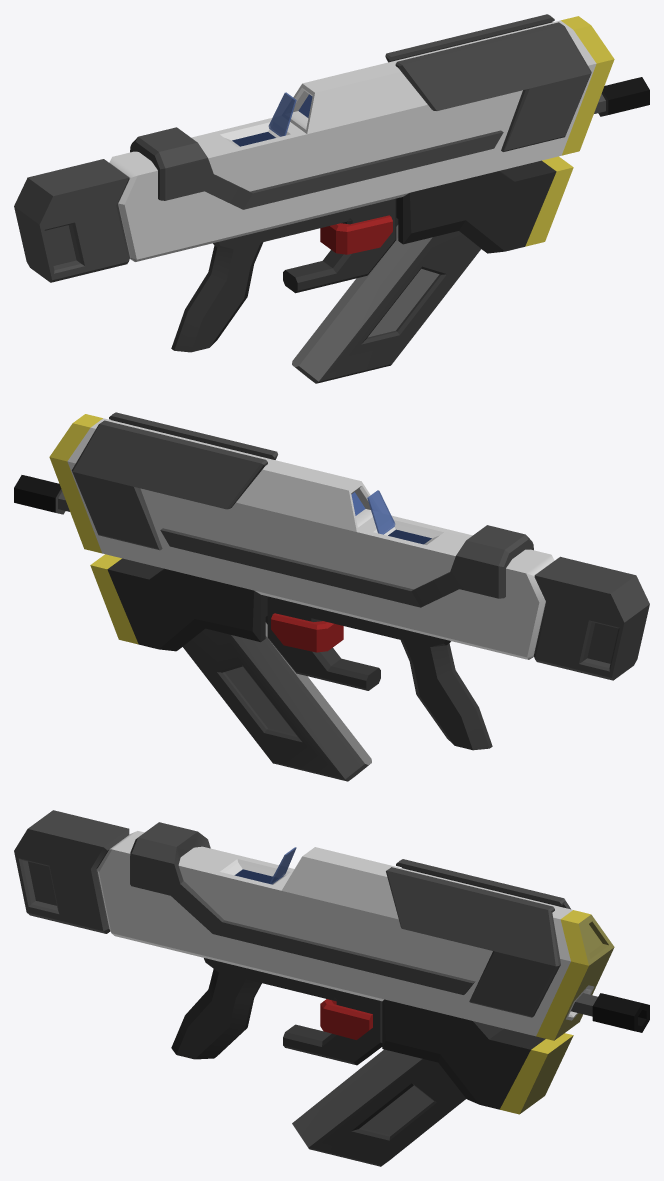
File: chongfeng.fbx
The picture shows the model from 3 angles, top to bottom: view 1: azimuth 30°, elevation 25°; view 2: azimuth 150°, elevation 25°; view 3: azimuth 330°, elevation 25°; orthographic projection.
Parts seen in each view (by area): view 1: polySurface4; view 2: polySurface4; view 3: polySurface4.
Boxes of the visible parts, x1,y1,x2,y2 form: polySurface4: (14,14,649,383); polySurface4: (14,412,649,781); polySurface4: (14,810,649,1166).
Bounding box in the file's own units: 6.18 × 2.9 × 0.6201.
